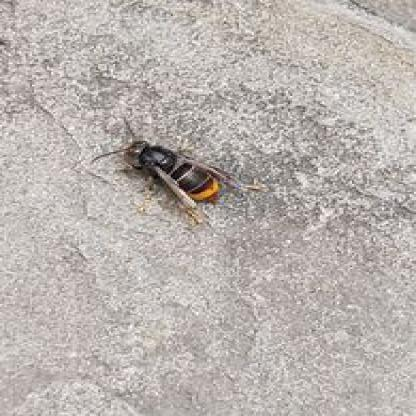Asian Hornet: (94, 115, 258, 225)
